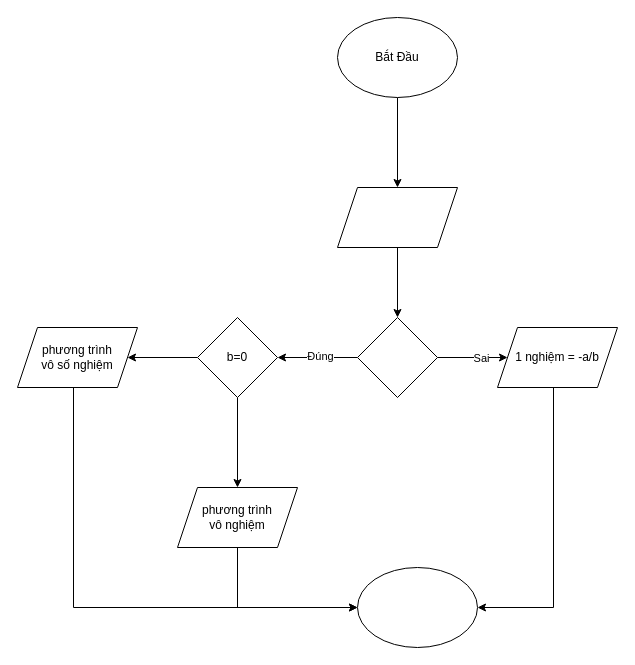
Some shapes in this 635 by 665 pixel diagram are drawn without their labels. Here are the shapes that lost their labels. From the top down, the centre of each, then its label:
At point (397, 217): "Nhập a,b".
At point (397, 357): "a = 0".
At point (417, 607): "End".
